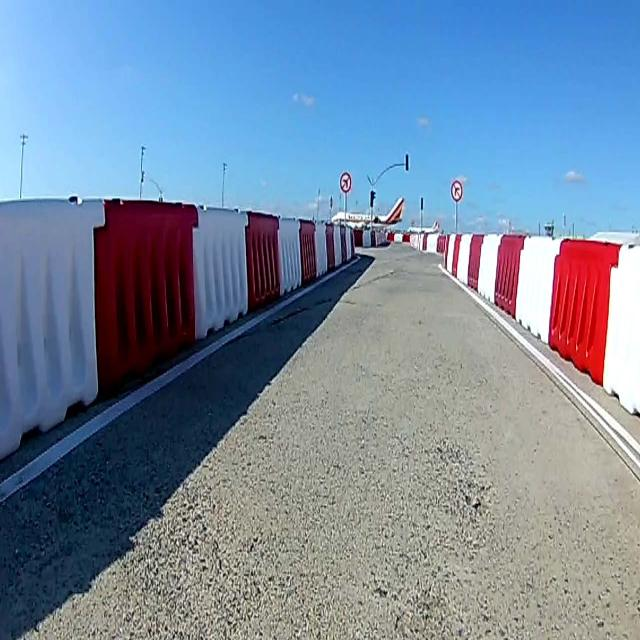sagadonulmez: (452, 181, 461, 202)
soladonulmez: (339, 170, 352, 193)
